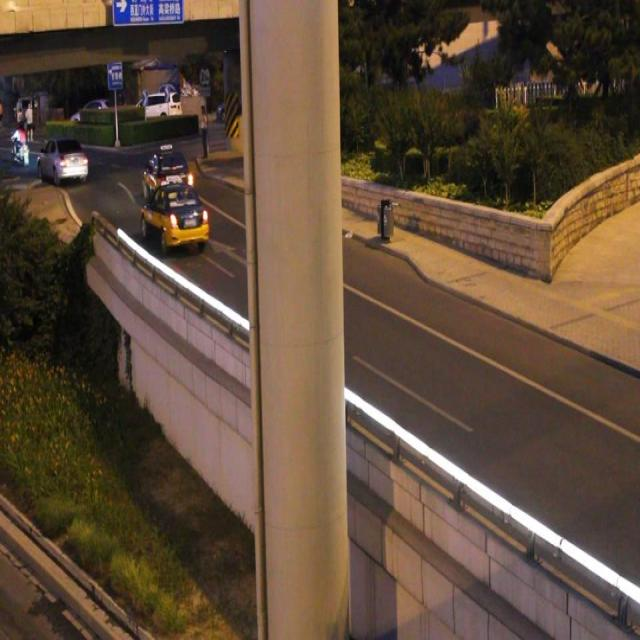car: (144, 185, 208, 245), (144, 153, 191, 201), (39, 139, 88, 180)
